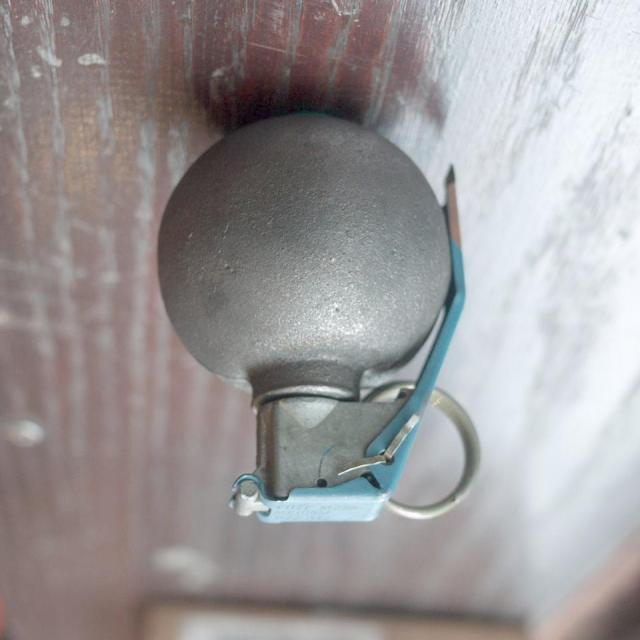grenade: (159, 110, 468, 524)
